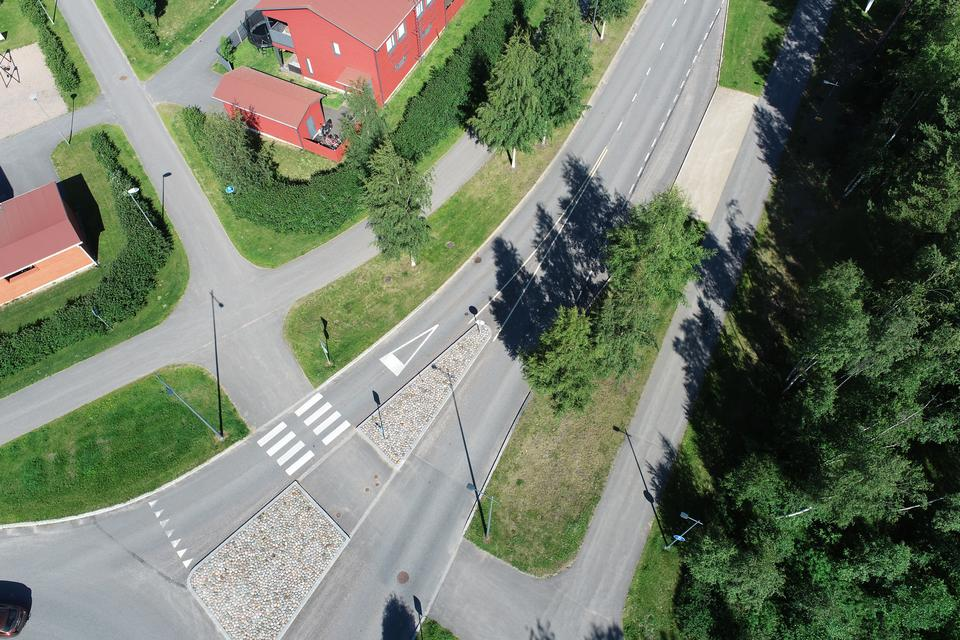intersection: (207, 376, 512, 640)
